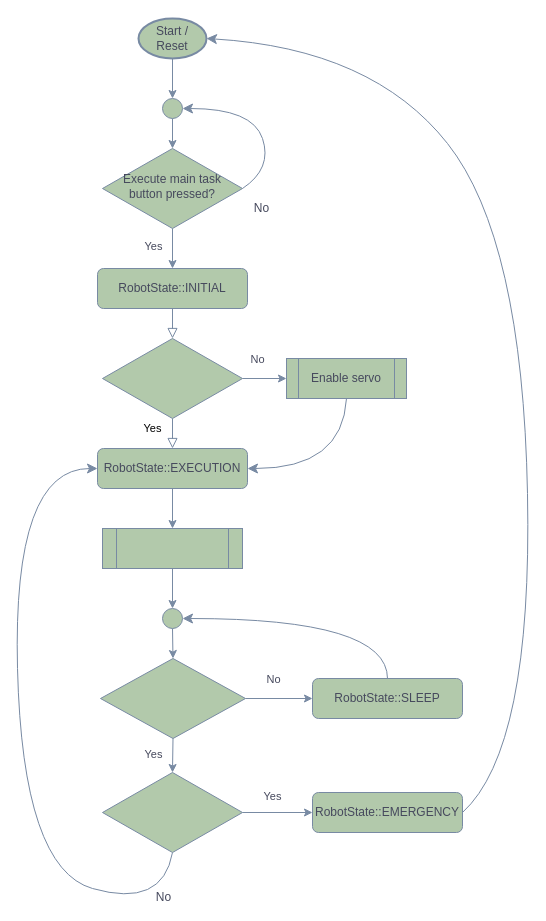
Image size: 546x921. Some labels were removed from this diagram. The box of each missing label's shape, as (x1, y1, x2, y2) in pixels:
Distance within limits?: (100, 658, 246, 738)
Mechanical button pressed?: (102, 772, 242, 852)
Move servo based on distance: (102, 528, 242, 568)
Servo enabled?: (102, 338, 242, 418)
